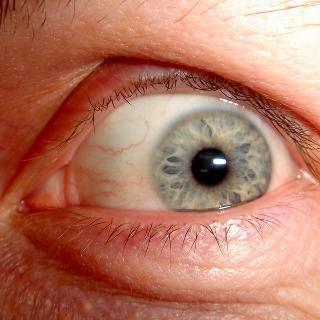iris: (151, 106, 272, 227)
